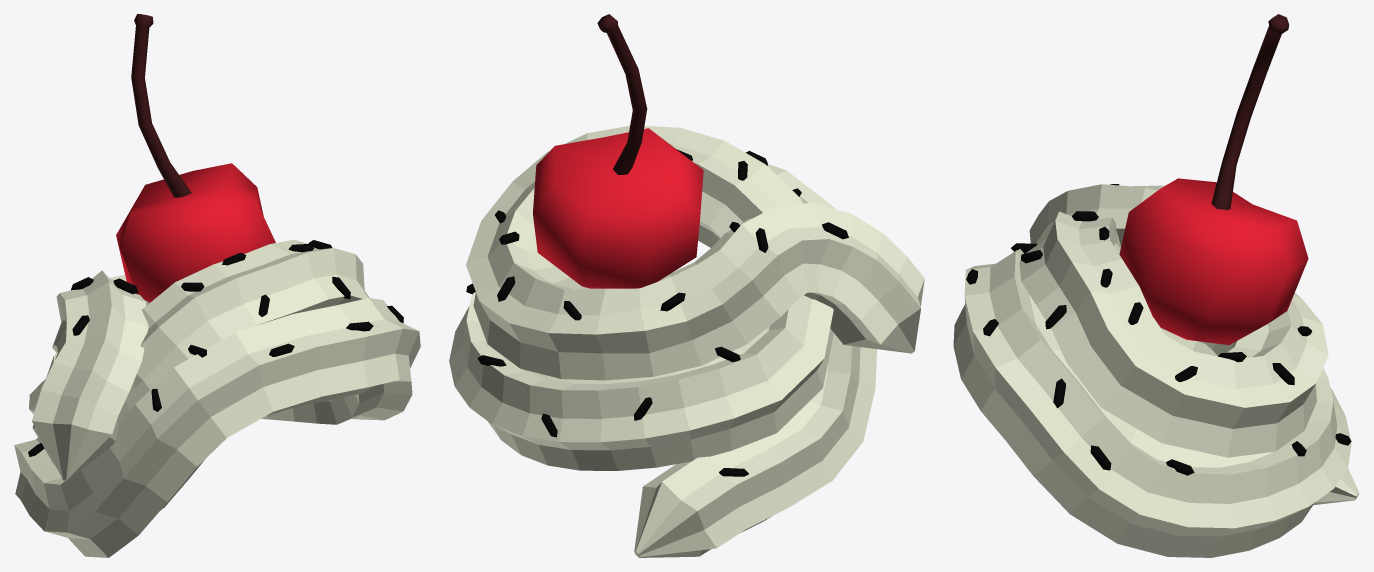
The model's file is ShakeWhip.fbx.
3 views of the same model, side by side, from view 1: azimuth 30°, elevation 25°; view 2: azimuth 150°, elevation 25°; view 3: azimuth 270°, elevation 25° (orthographic). The views are drawn at different scales.
Parts seen in each view (by area): view 1: ShakeWhip; view 2: ShakeWhip; view 3: ShakeWhip.
Boxes of the visible parts, x1,y1,x2,y2 form: ShakeWhip: [14, 14, 420, 557]; ShakeWhip: [449, 14, 924, 557]; ShakeWhip: [953, 14, 1359, 557].
Size of the model in its own units: 94.48 by 112 by 76.46.
Materials: 4 (1 with a texture image).
